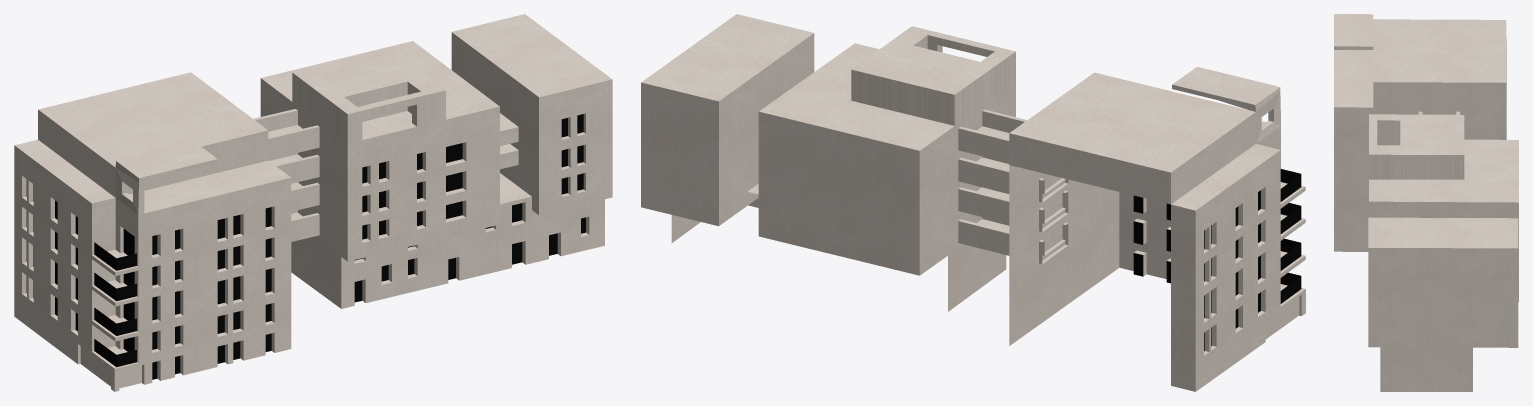
Rendered from SM_Building_08.fbx.
The picture shows the model from 3 angles, left to right: view 1: azimuth 30°, elevation 25°; view 2: azimuth 150°, elevation 25°; view 3: azimuth 270°, elevation 25°; orthographic projection. The views are drawn at different scales.
Parts seen in each view (by area): view 1: SM_Building_08; view 2: SM_Building_08; view 3: SM_Building_08.
Part boxes in pixels (box(x1,y1,x2,y2)): SM_Building_08: box(14, 14, 612, 391); SM_Building_08: box(641, 14, 1305, 391); SM_Building_08: box(1334, 14, 1518, 391).
Bounding box in the file's own units: 67.31 × 25.75 × 24.61.
